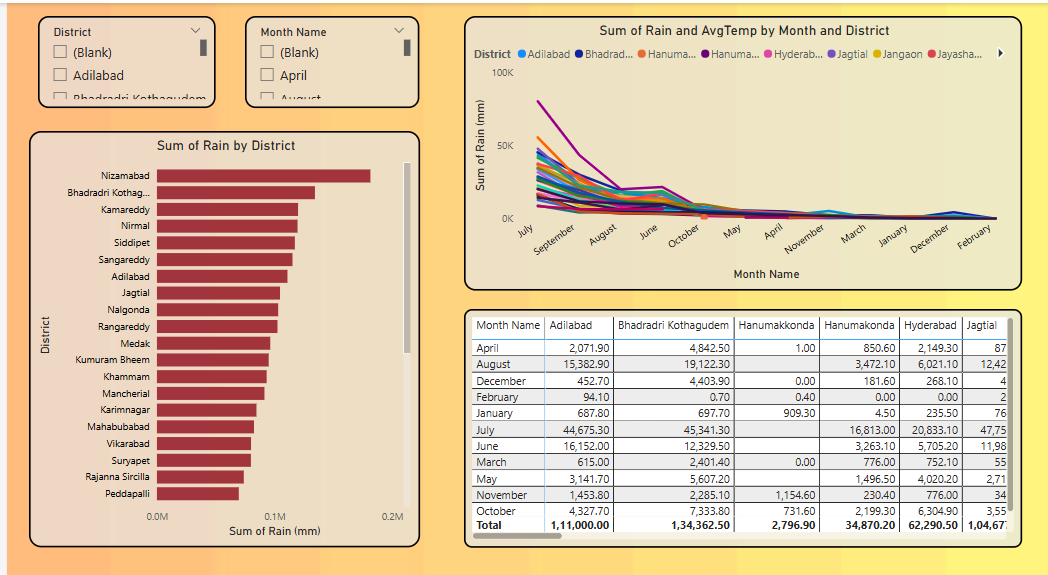

The dashboard page shown, as its layout file describes it:
{"tool":"powerbi","page":{"name":"Weather Insights","canvas":[1280,720],"ordinal":5},"visuals":[{"type":"lineChart","title":"Sum of Rain and AvgTemp by Month and District","fields":{"Category":["Weather_Data.Month Name"],"Series":["Weather_Data.District"],"Y":["Sum(Weather_Data.Rain (mm))"]},"box":[561.3,16.3,684.5,337.1],"z":0},{"type":"barChart","title":"Sum of Rain by District","fields":{"Category":["Weather_Data.District"],"Y":["Sum(Weather_Data.Rain (mm))"]},"box":[26.7,157.4,479.6,510.8],"z":1000},{"type":"pivotTable","fields":{"Rows":["Weather_Data.Month Name"],"Values":["Sum(Weather_Data.Rain (mm))"],"Columns":["Weather_Data.District"]},"box":[561.3,375.7,684.5,292.5],"z":2000},{"type":"slicer","fields":{"Values":["Weather_Data.District"]},"box":[38.6,16.3,218.3,112.9],"z":3000},{"type":"slicer","fields":{"Values":["Weather_Data.Month Name"]},"box":[292.5,16.3,213.8,112.9],"z":4000}]}

Visuals, with their boxes in screenshot pixels (x1, y1, x2, y2), scaled from the page's 1280x720 canvas onto the 1048x575 screenshot:
"Sum of Rain and AvgTemp by Month and District" lineChart: (left=460, top=13, right=1020, bottom=282)
"Sum of Rain by District" barChart: (left=22, top=126, right=415, bottom=534)
pivotTable - Weather_Data.Month Name x Sum(Weather_Data.Rain (mm)): (left=460, top=300, right=1020, bottom=534)
slicer - Weather_Data.District: (left=32, top=13, right=210, bottom=103)
slicer - Weather_Data.Month Name: (left=239, top=13, right=415, bottom=103)
